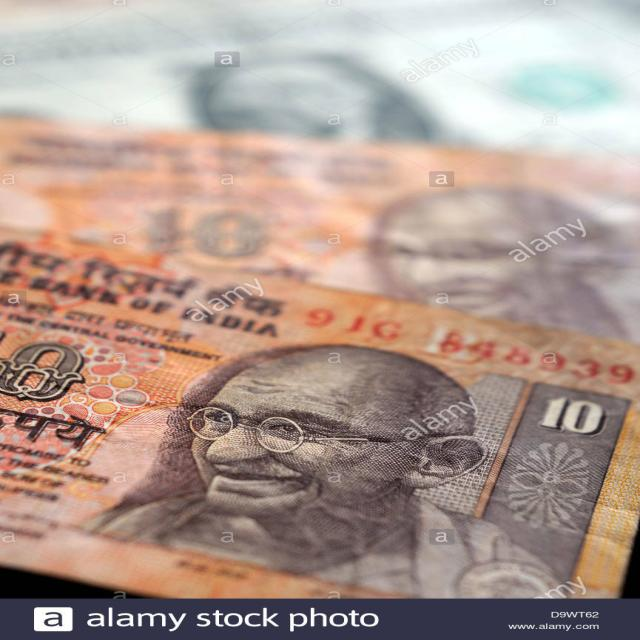10IndianRupees: (0, 234, 640, 602)
